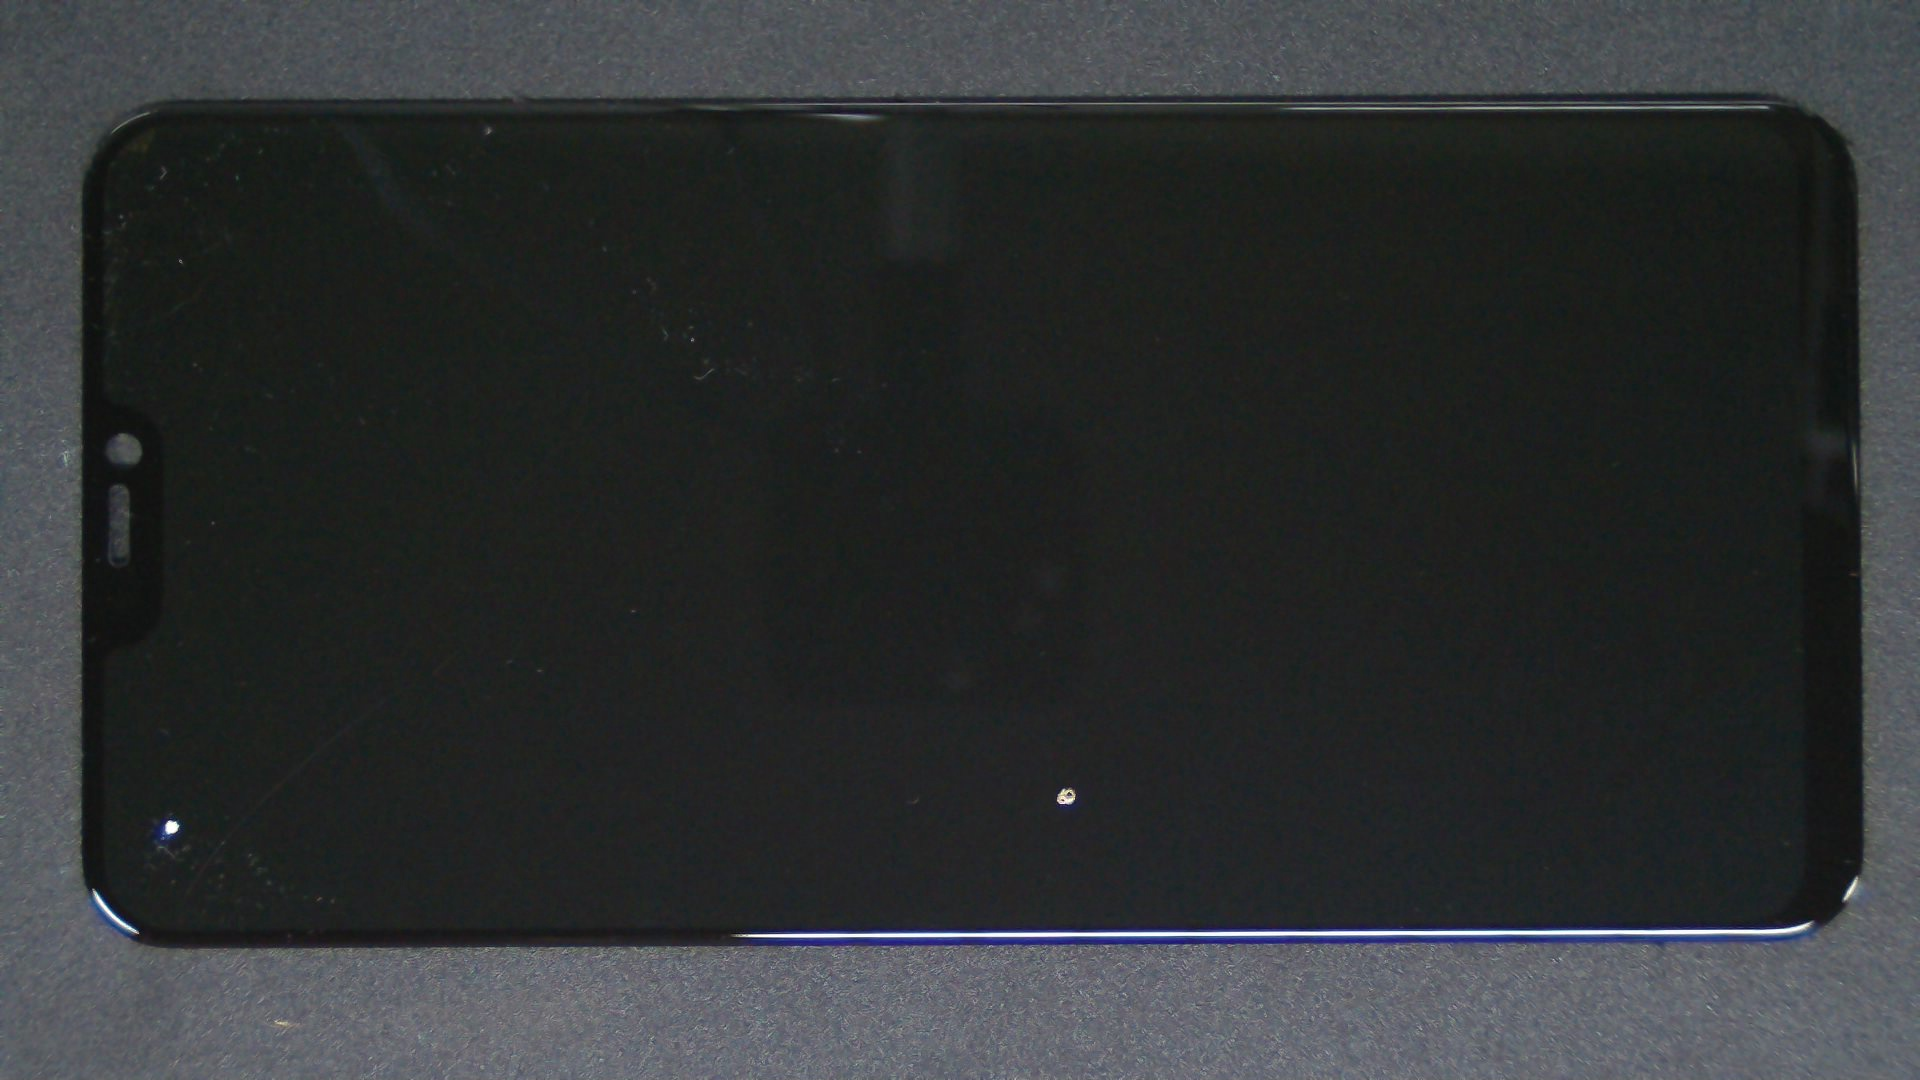oil: (537, 392, 1609, 1080), (84, 409, 248, 1080)
